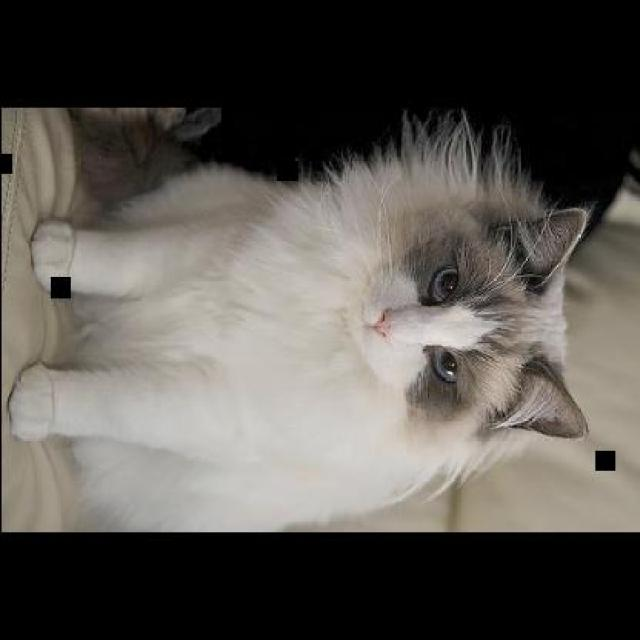unauthorized: (6, 106, 592, 531)
